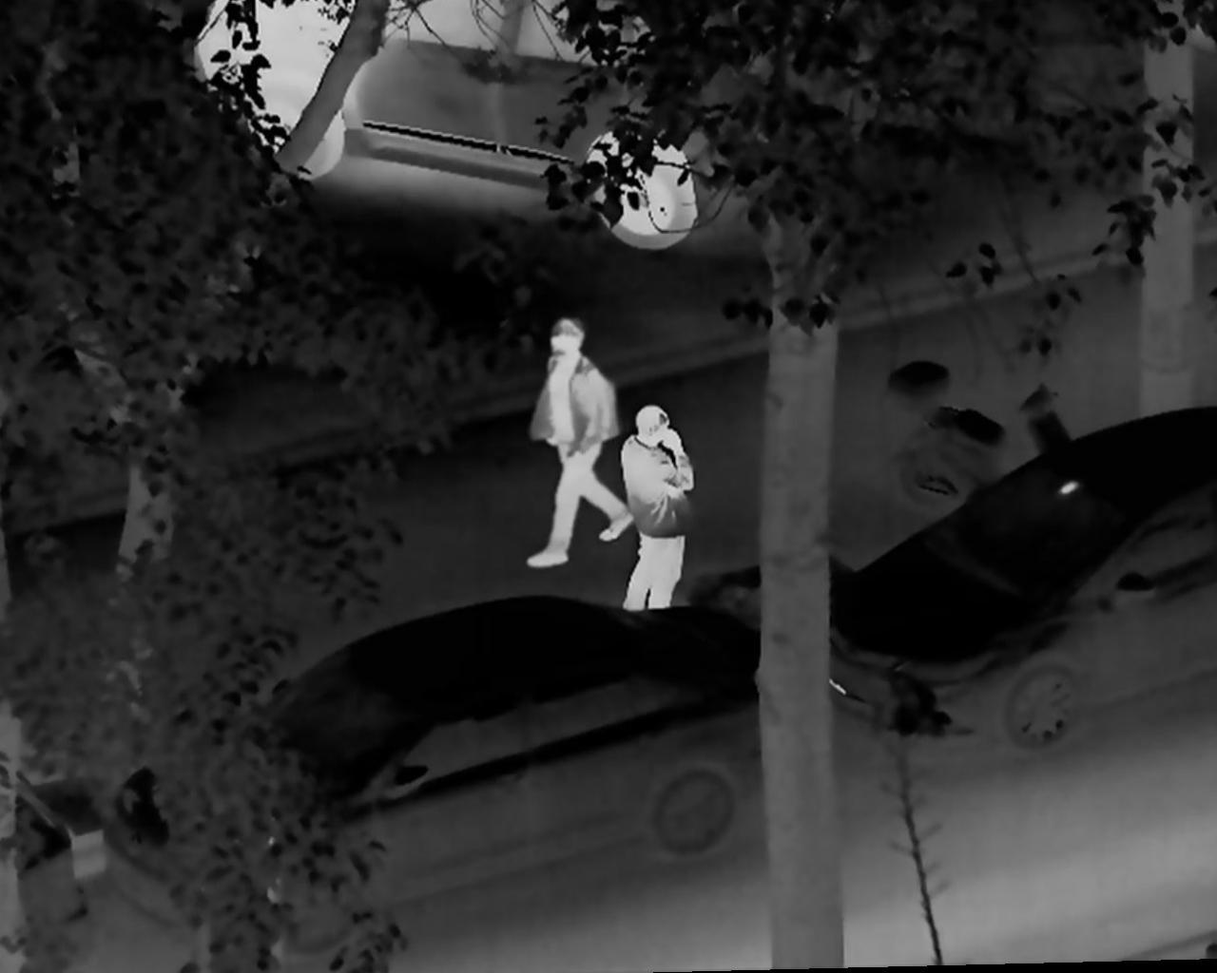person: (504, 315, 636, 568), (611, 404, 697, 612)
